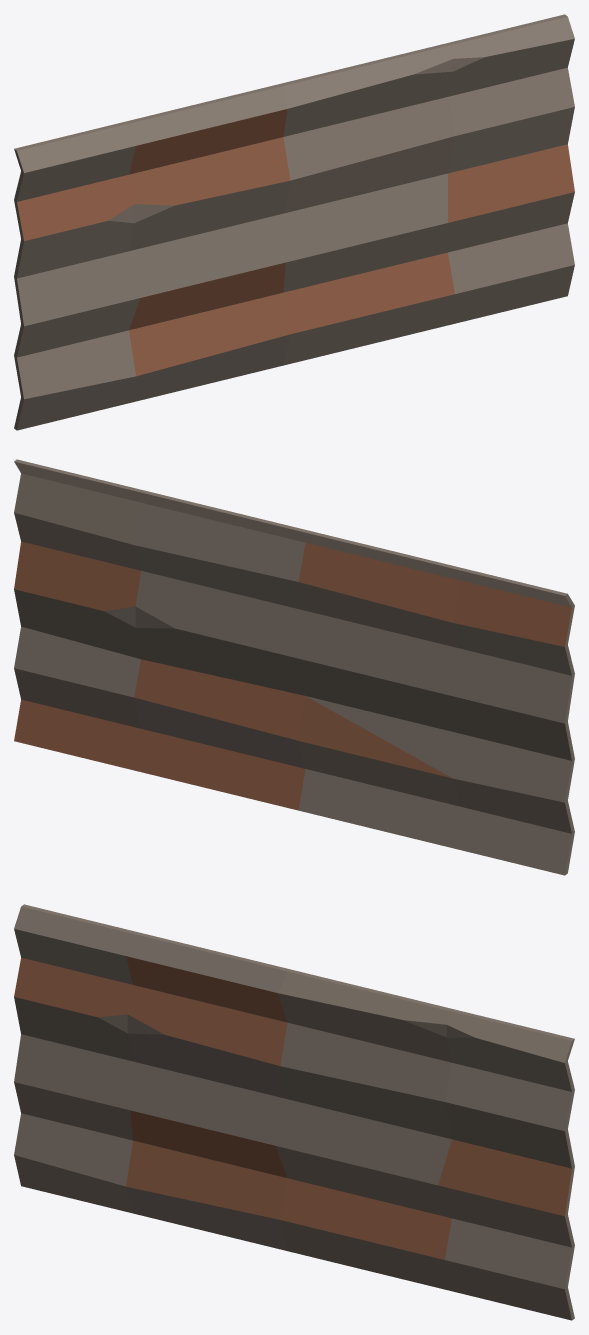
File: model_corrugated_metal_01.fbx
3 views of the same model, one above another, from view 1: azimuth 30°, elevation 25°; view 2: azimuth 150°, elevation 25°; view 3: azimuth 330°, elevation 25° (orthographic).
Parts seen in each view (by area): view 1: model_corrugated_metal_01; view 2: model_corrugated_metal_01; view 3: model_corrugated_metal_01.
Part boxes in pixels (x1=…): model_corrugated_metal_01: x1=14, y1=14, x2=574, y2=430; model_corrugated_metal_01: x1=14, y1=459, x2=574, y2=875; model_corrugated_metal_01: x1=14, y1=904, x2=574, y2=1320.
Bounding box in the file's own units: 362 × 176 × 11.49.
1 material, 1 textured.
